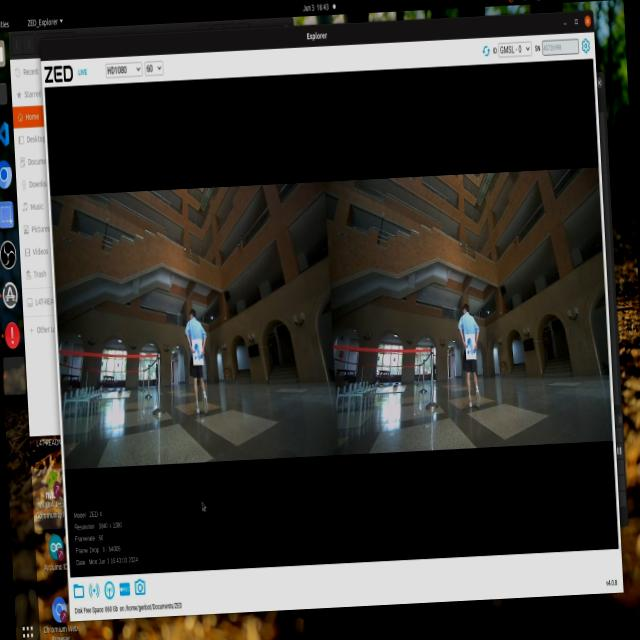blue: (467, 335, 485, 367), (193, 338, 210, 367)
